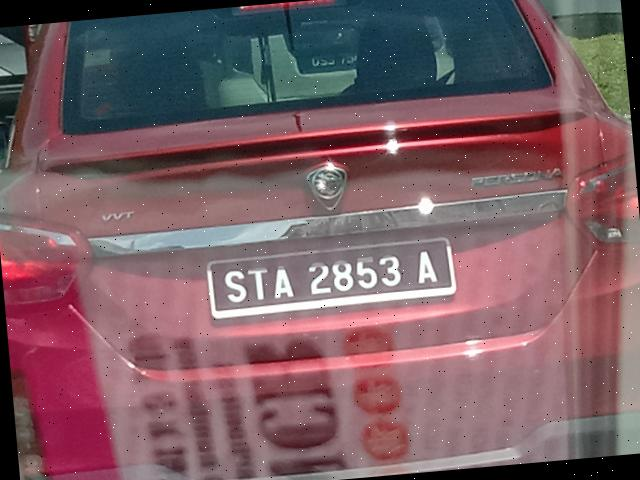License_Plate: (206, 237, 458, 320)
car: (1, 1, 640, 480)
